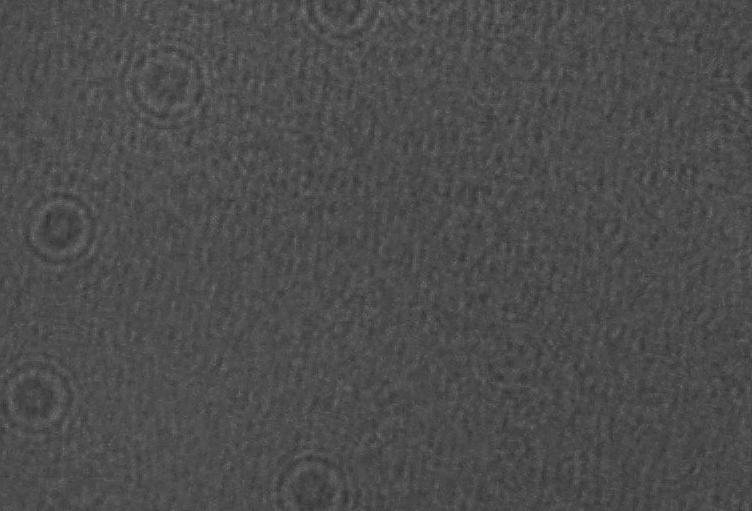bead: (110, 32, 225, 134), (0, 347, 93, 444), (8, 186, 110, 271), (258, 444, 366, 511), (284, 0, 399, 56), (722, 36, 752, 119)
